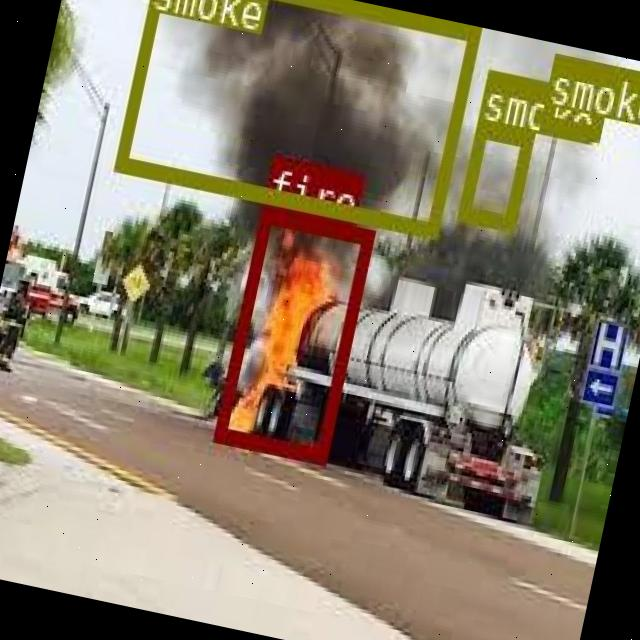fire: (212, 206, 372, 462)
smoke: (113, 0, 476, 235), (456, 120, 532, 228), (538, 50, 613, 136)
